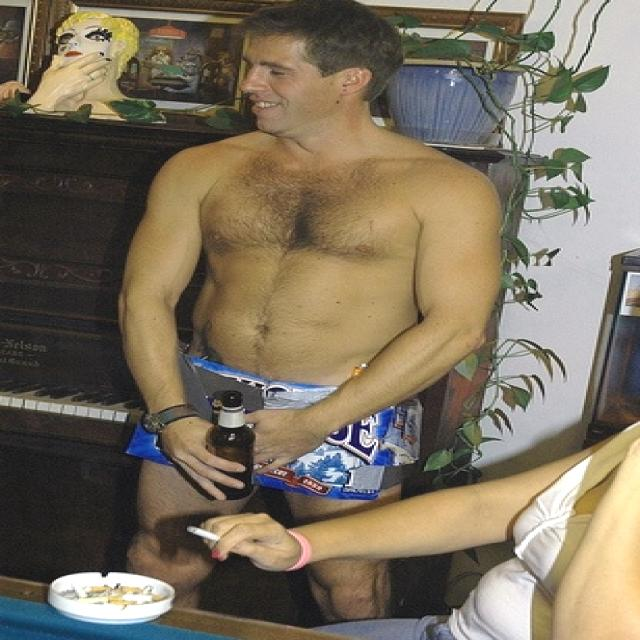piel: (119, 37, 640, 640)
